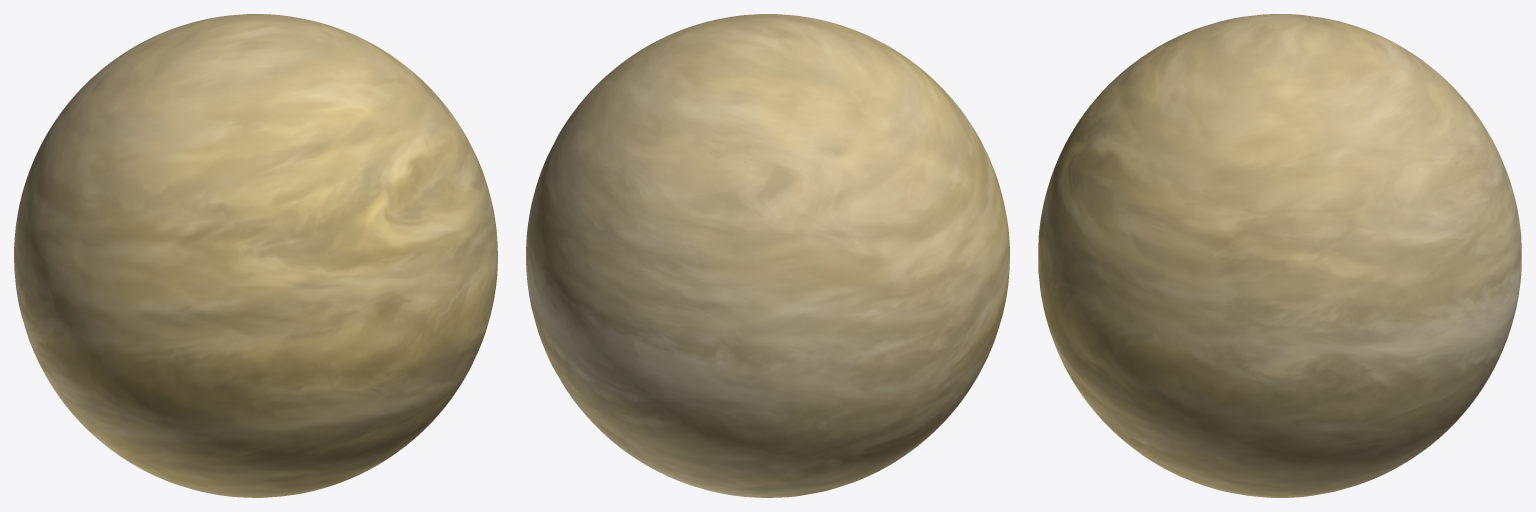
File: PlanetVenus.glb
3 views of the same model, side by side, from view 1: azimuth 30°, elevation 25°; view 2: azimuth 150°, elevation 25°; view 3: azimuth 270°, elevation 25° (orthographic).
Visible parts, largest first — view 1: Venus; view 2: Venus; view 3: Venus.
Boxes of the visible parts, x1=… form: Venus: x1=14, y1=14, x2=497, y2=497; Venus: x1=526, y1=14, x2=1009, y2=497; Venus: x1=1038, y1=14, x2=1521, y2=497.
Size of the model in its own units: 2 by 2 by 2.
1 material, 1 textured.
